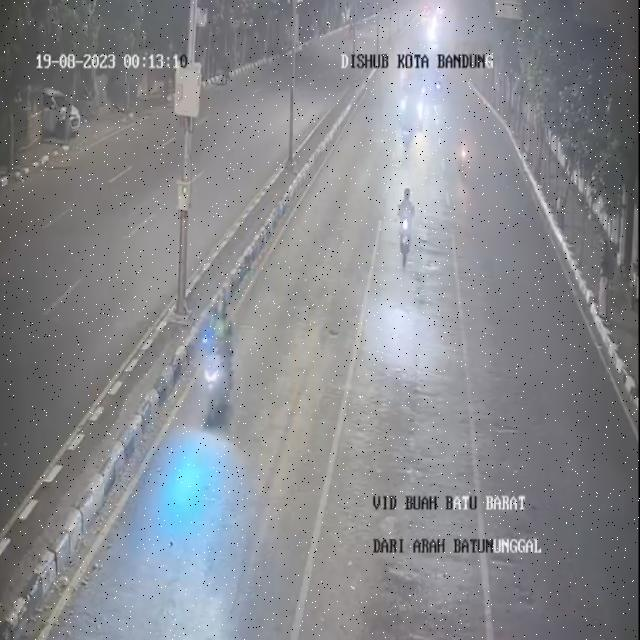motorcycle: (196, 274, 239, 424), (391, 184, 415, 269), (456, 124, 475, 182), (398, 100, 416, 158)
